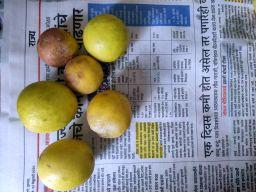lemon: (17, 81, 78, 132), (37, 139, 95, 191), (83, 13, 130, 63), (86, 91, 133, 138), (37, 28, 78, 67), (64, 55, 104, 94)
